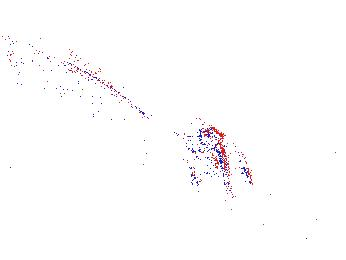X-ray fish: (186, 117, 257, 232)
glassfish: (1, 32, 188, 161)
siberian prawn: (252, 215, 346, 252)
